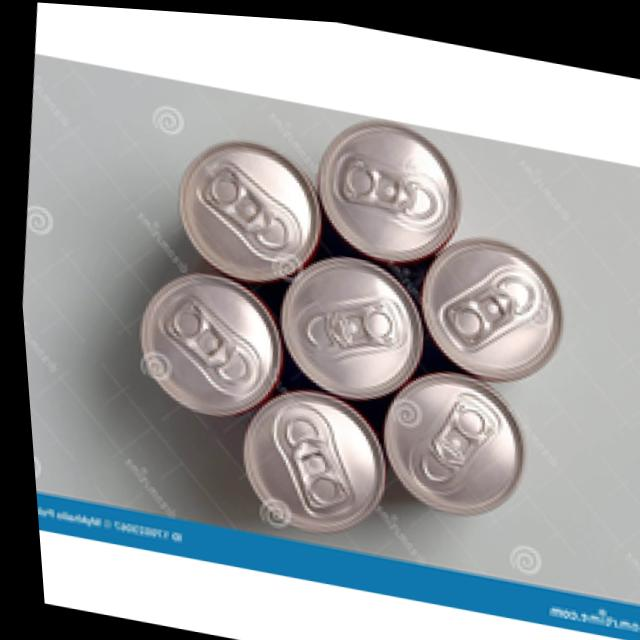aluminum_soda_cans: (299, 110, 467, 270), (223, 377, 385, 541), (369, 362, 528, 521), (261, 244, 425, 398), (121, 263, 281, 419), (161, 126, 319, 275), (425, 217, 561, 374)
